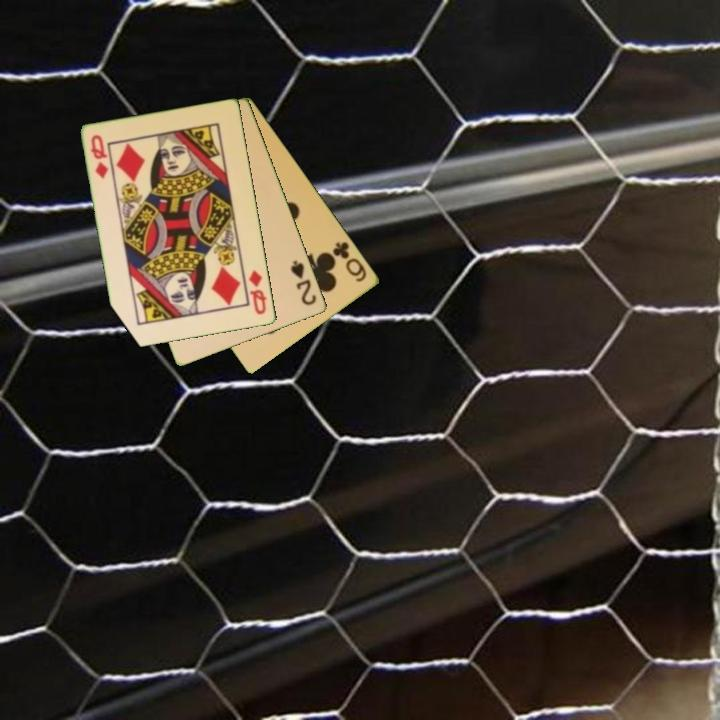2s: (287, 257, 320, 308)
6c: (329, 238, 370, 285)
Qd: (245, 267, 270, 318), (88, 131, 112, 182)
